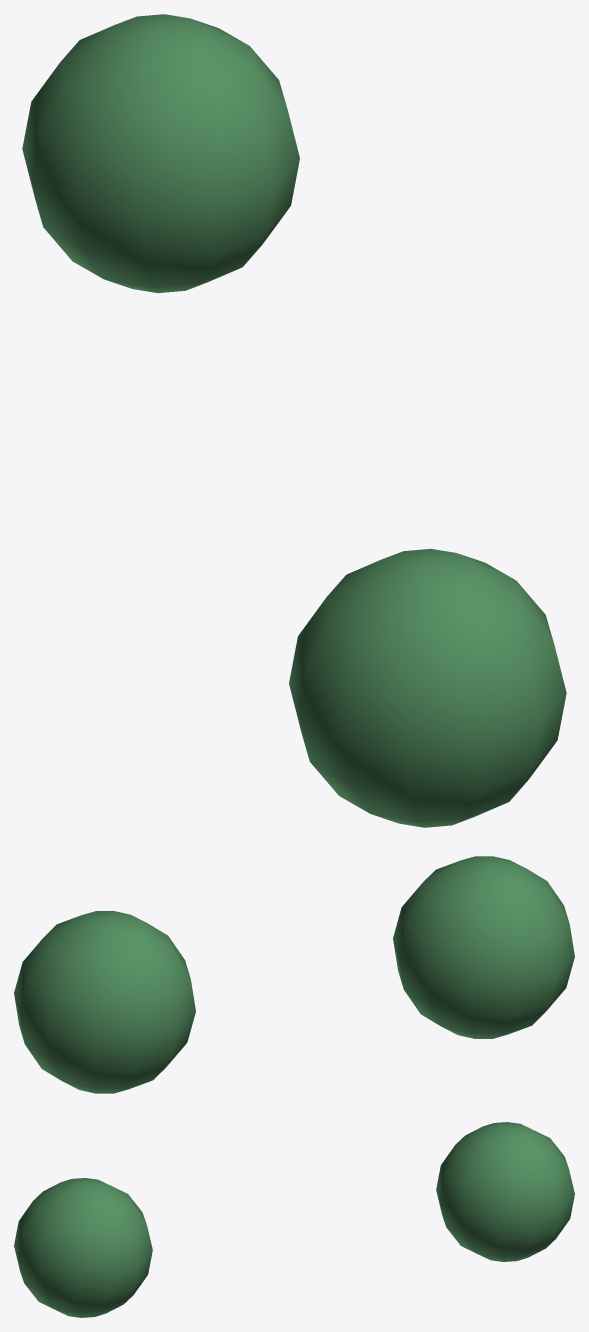
3 renders of one model, top to bottom at view 1: azimuth 30°, elevation 25°; view 2: azimuth 150°, elevation 25°; view 3: azimuth 270°, elevation 25°, orthographic. The views are drawn at different scales.
Parts seen in each view (by area): view 1: 左侧腘深淋巴结; view 2: 左侧腘深淋巴结; view 3: 左侧腘深淋巴结.
Boxes of the visible parts, bbox=[...] form: 左侧腘深淋巴结: bbox=[22, 14, 566, 827]; 左侧腘深淋巴结: bbox=[14, 856, 574, 1093]; 左侧腘深淋巴结: bbox=[14, 1122, 574, 1317].
Size of the model in its own units: 0.00625 by 0.00666 by 0.0153.
